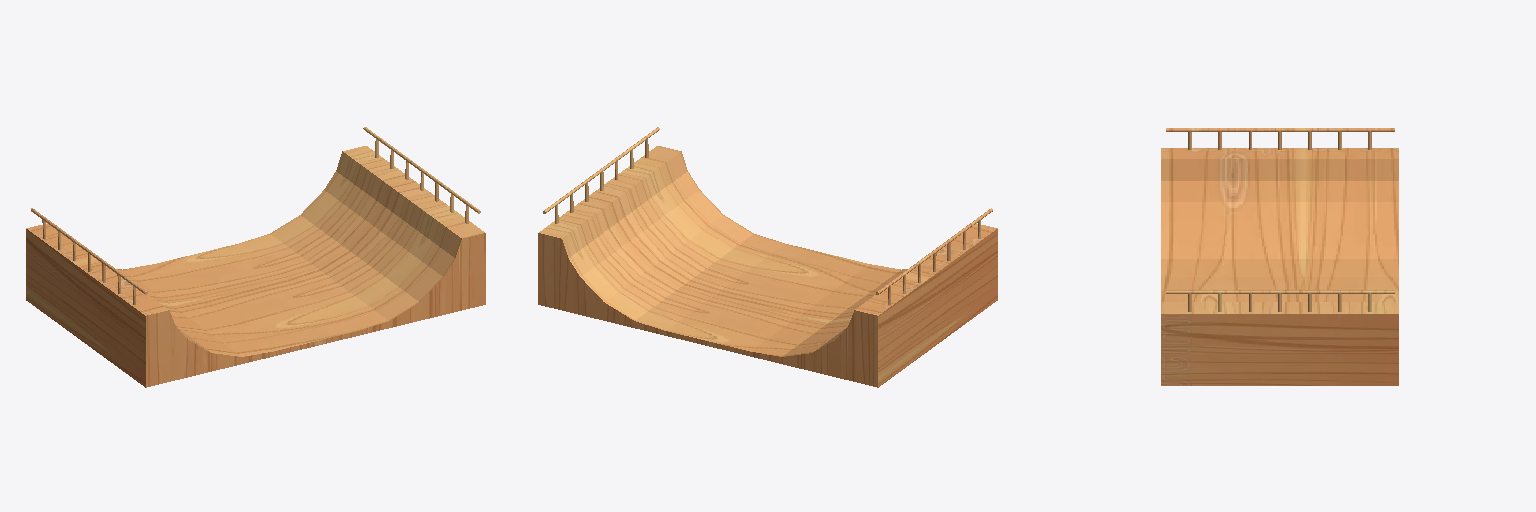
The picture shows the model from 3 angles: view 1: azimuth 30°, elevation 25°; view 2: azimuth 150°, elevation 25°; view 3: azimuth 270°, elevation 25°; orthographic projection.
Parts seen in each view (by area): view 1: ramp; view 2: ramp; view 3: ramp.
Boxes of the visible parts, <box> form: ramp: <box>26,127,485,387</box>; ramp: <box>538,127,997,387</box>; ramp: <box>1161,128,1398,385</box>.
Bounding box in the file's own units: 65.28 × 17.07 × 39.71.
Materials: 1 (1 with a texture image).